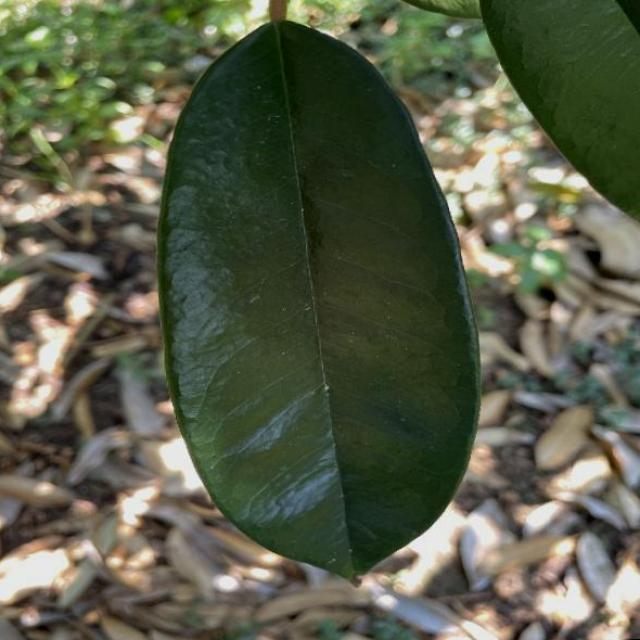No Disease: (134, 1, 503, 610)
